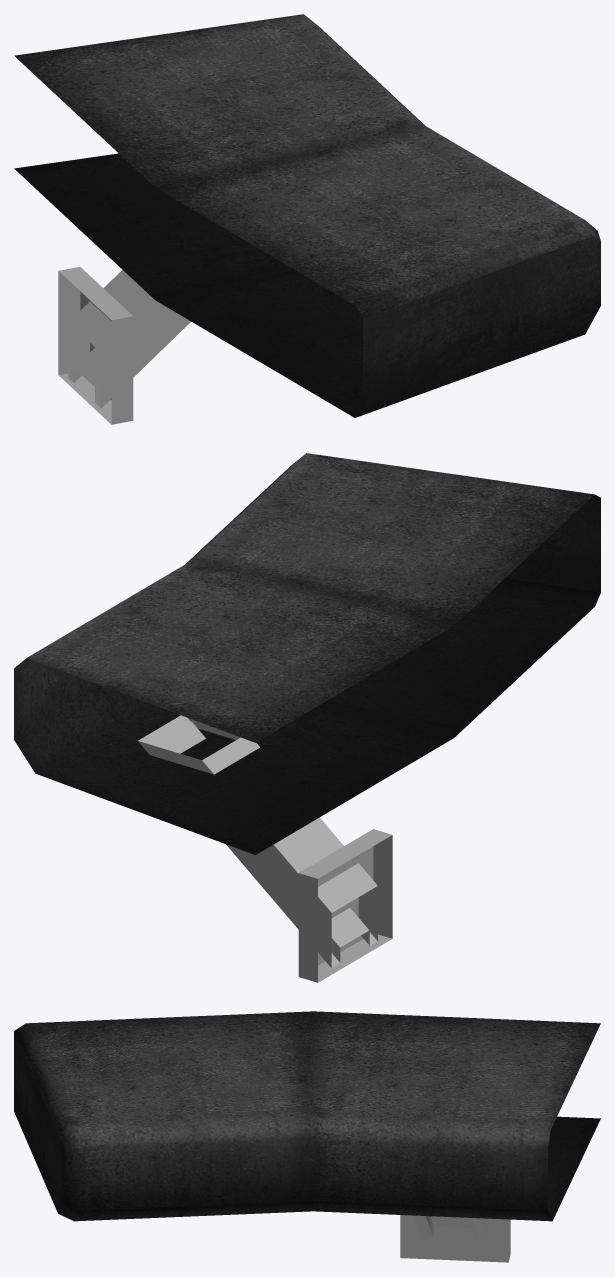
The model's file is SM_I_ConcreteSlabs.fbx.
3 views of the same model, one above another, from view 1: azimuth 30°, elevation 25°; view 2: azimuth 150°, elevation 25°; view 3: azimuth 270°, elevation 25° (orthographic). The views are drawn at different scales.
Visible parts, largest first — view 1: concreteslabend, concreteslabmiddle, polySurface1; view 2: concreteslabmiddle, concreteslabend, polySurface1; view 3: concreteslabend, concreteslabmiddle, polySurface1.
Boxes of the visible parts, x1,y1,x2,y2 form: concreteslabend: [155, 123, 600, 417]; concreteslabmiddle: [14, 14, 425, 300]; polySurface1: [58, 266, 190, 424]; concreteslabmiddle: [14, 561, 453, 854]; concreteslabend: [186, 453, 600, 737]; polySurface1: [138, 715, 392, 982]; concreteslabend: [14, 1011, 313, 1221]; concreteslabmiddle: [313, 1011, 600, 1221]; polySurface1: [400, 1215, 510, 1262].
Bounding box in the file's own units: 65.27 × 57.2 × 130.
